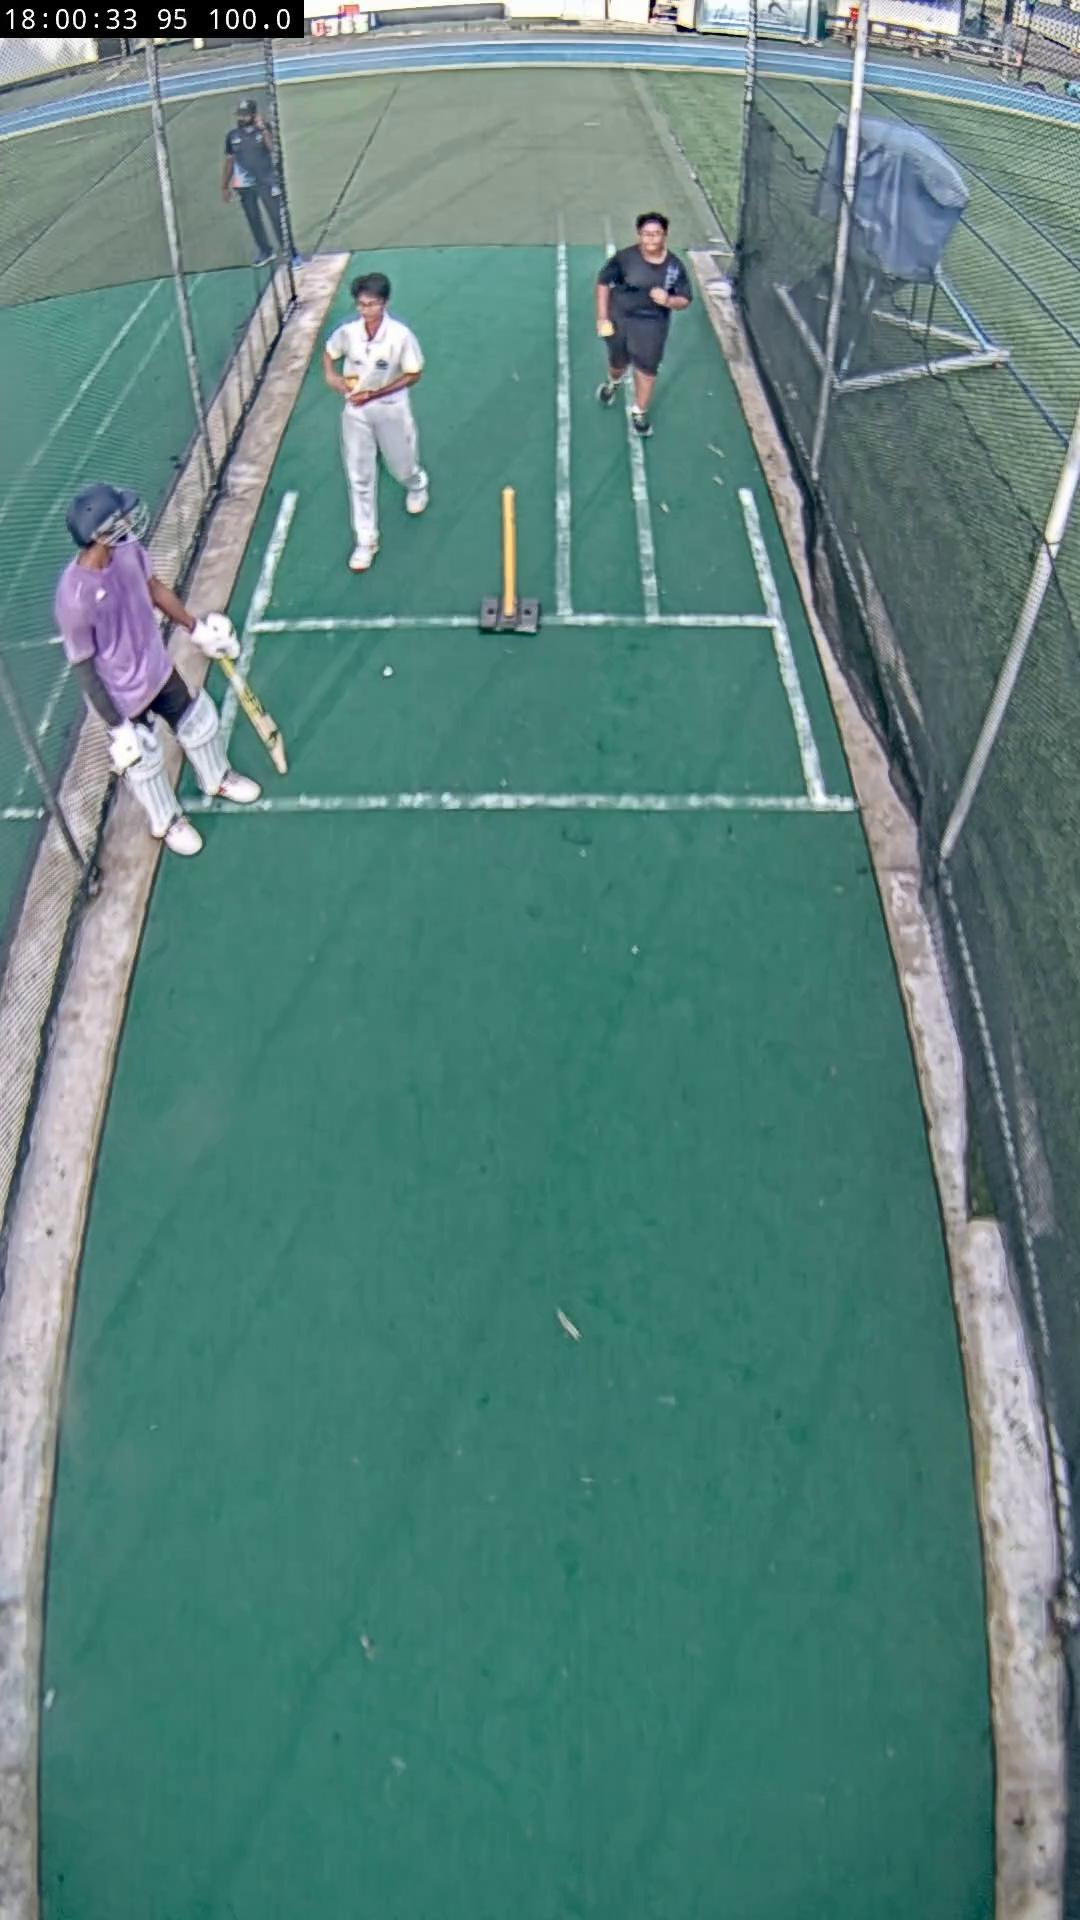ball: (596, 214, 690, 435)
stumps: (480, 488, 541, 634)
